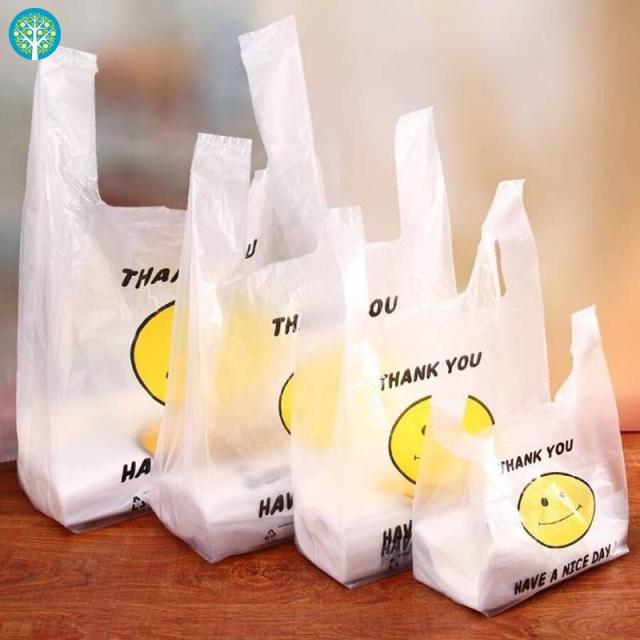Single-layer Plastic: (292, 180, 550, 586), (151, 16, 325, 562), (18, 48, 185, 531), (414, 308, 629, 614)
